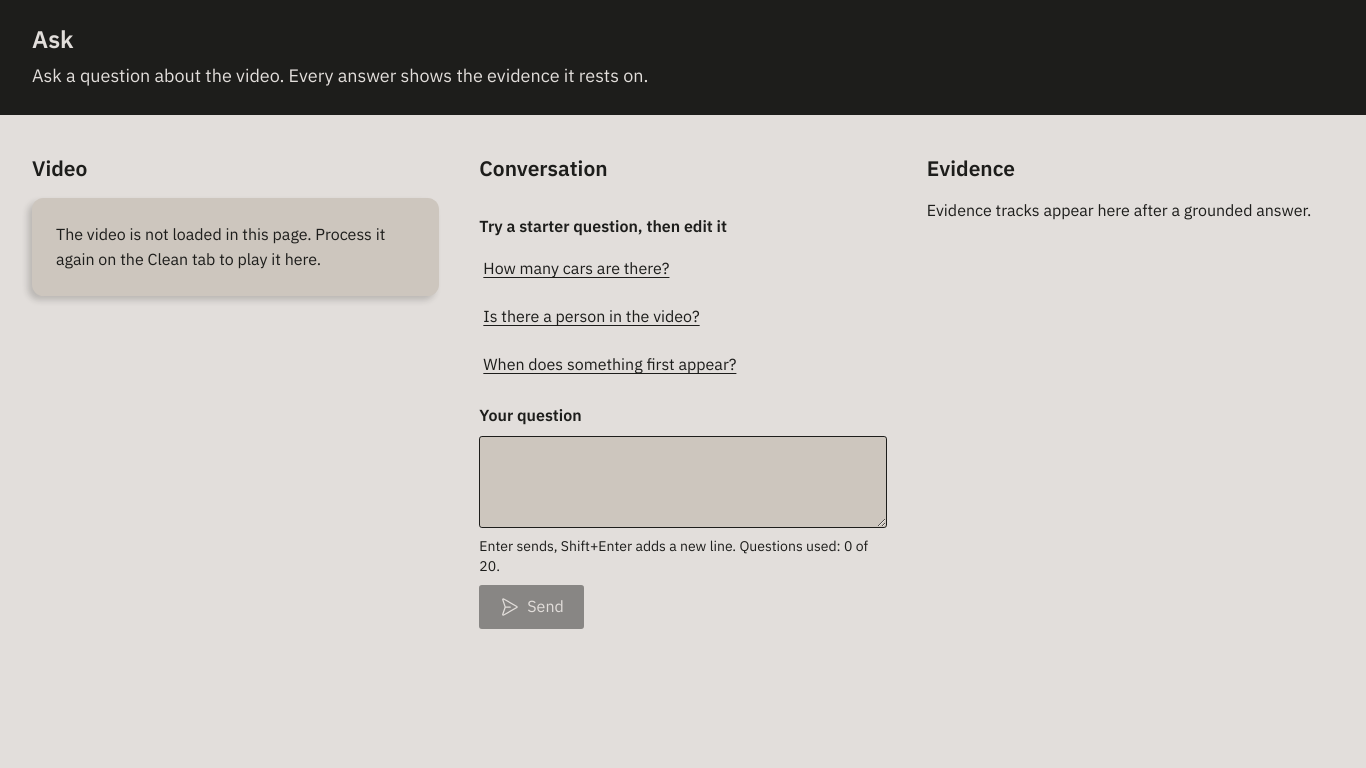
AskView chat flow › labels ungrounded answers in text
This screenshot has width=1366, height=768.
Type "why is it dark" into the text box labelled "Your question" at (683, 482), box [479,436,887,528]
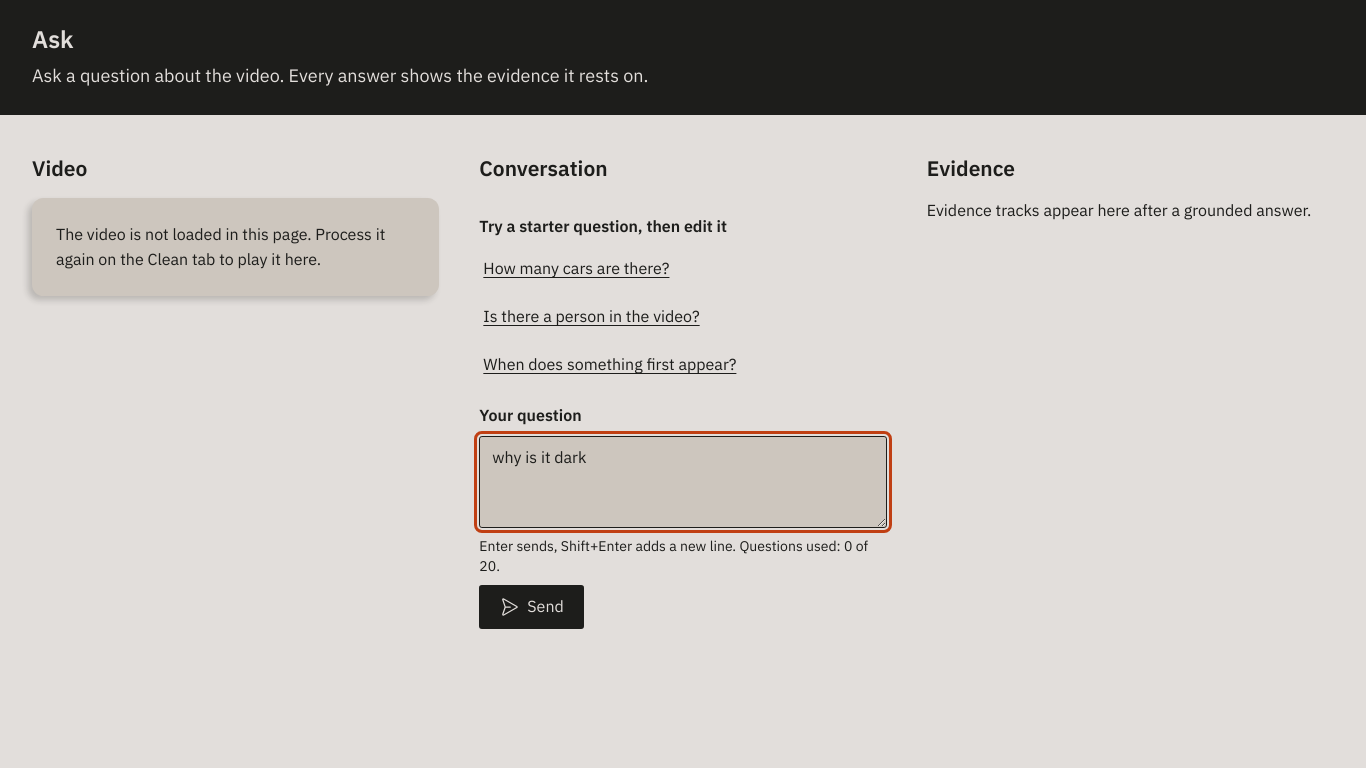
Click the button "Send" at (532, 607), box [479,585,584,629]
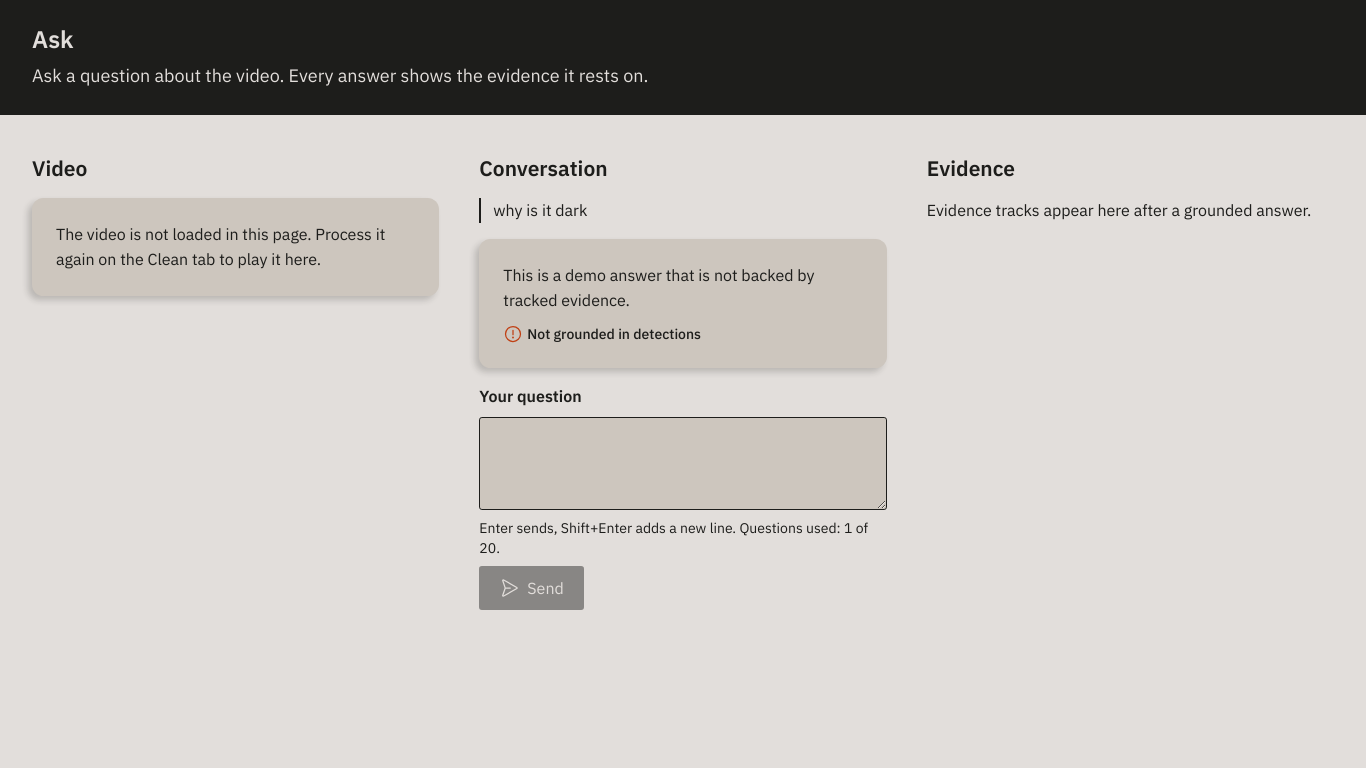
Now the text "Not grounded in detections" is shown, box [503,324,701,344]
